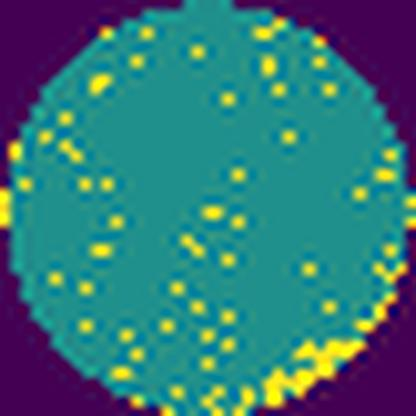Edge-Loc: (260, 330, 374, 411)
